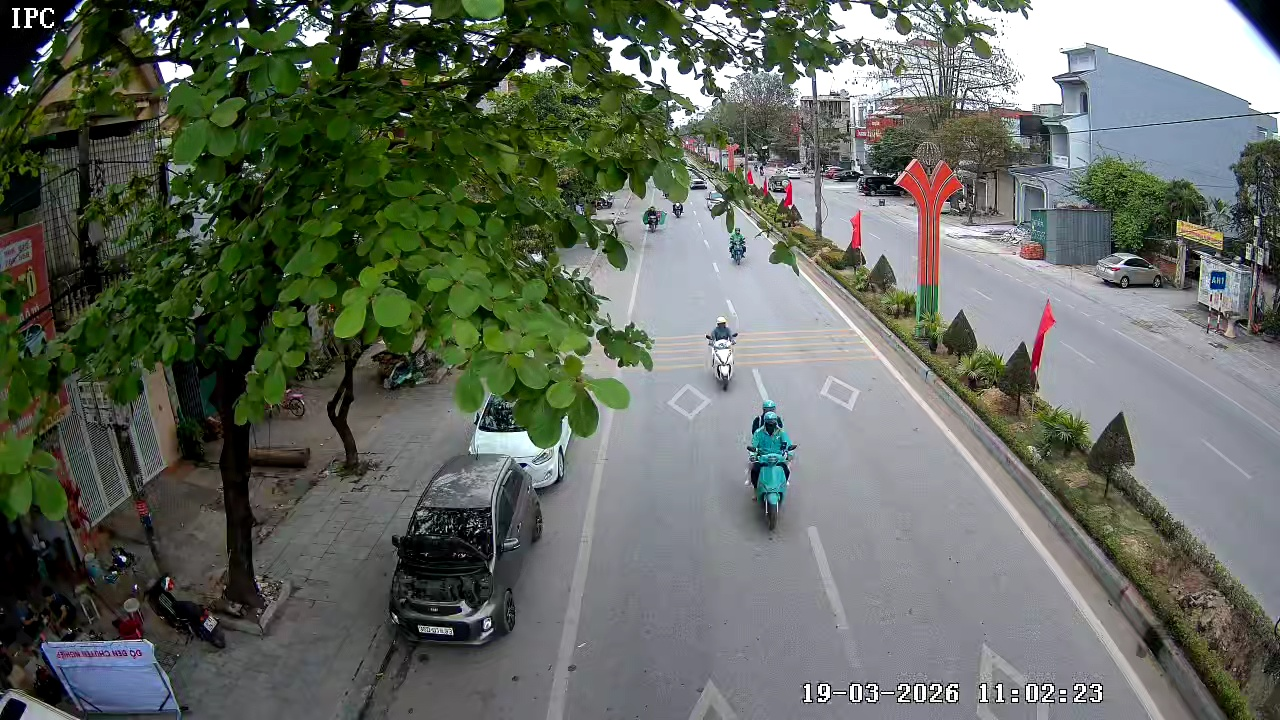car: (388, 453, 545, 647), (468, 393, 571, 492)
motorbike: (743, 412, 797, 532), (702, 312, 740, 393), (728, 225, 748, 267), (642, 205, 664, 231), (671, 197, 686, 220)
